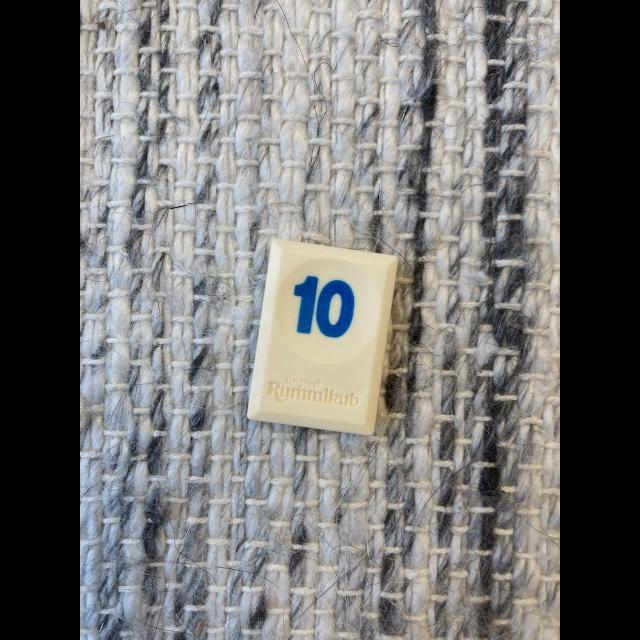blue_10: (248, 239, 398, 435)
